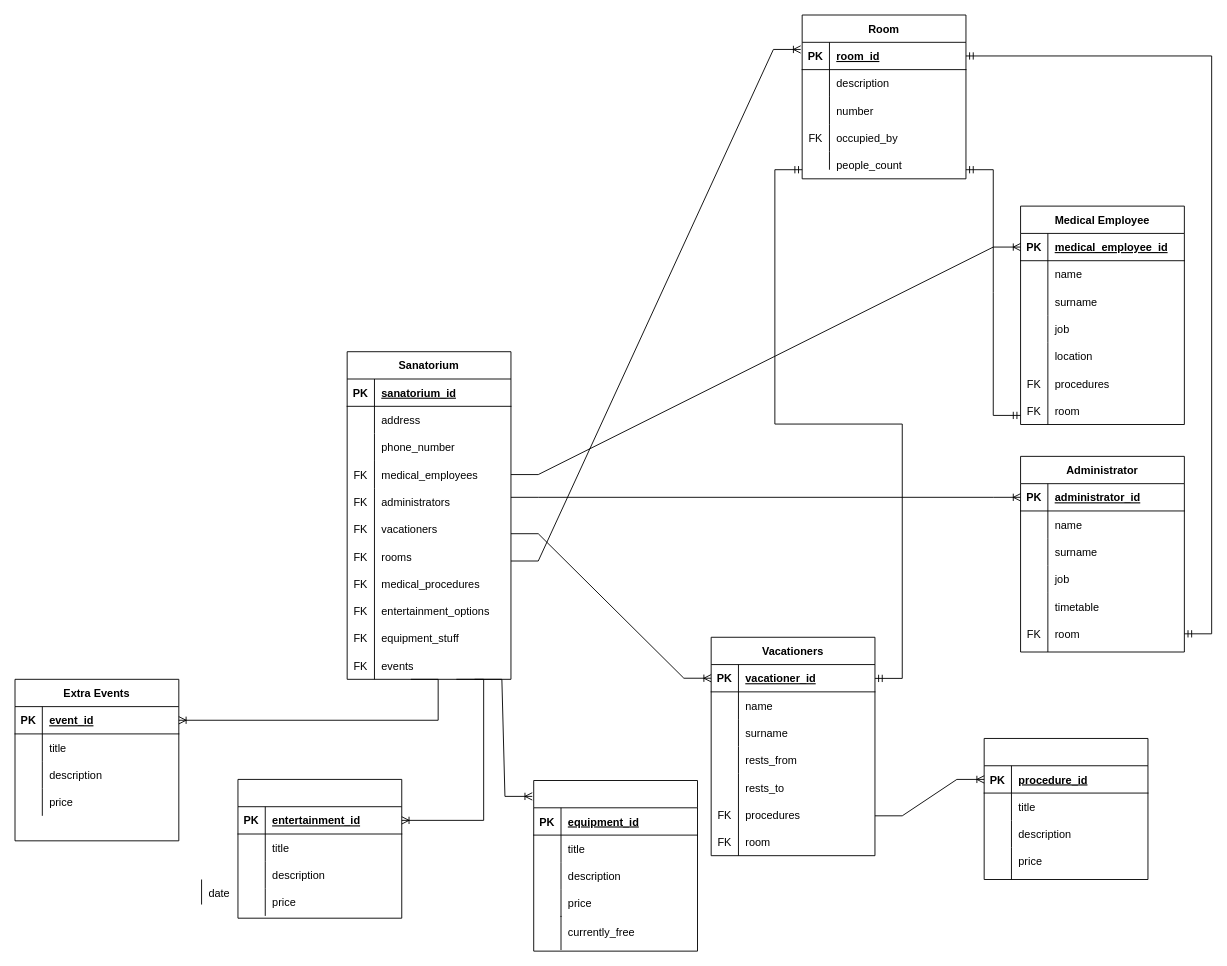
Image size: 1227x966. Some labels were removed from this diagram. Each missing label, with the box of its shape:
Entertainment Options: (237, 779, 402, 918)
Equipments: (533, 780, 698, 951)
Medical Procedures: (983, 738, 1148, 880)
